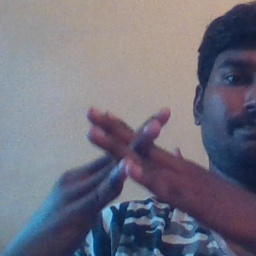W: (68, 88, 196, 225)
